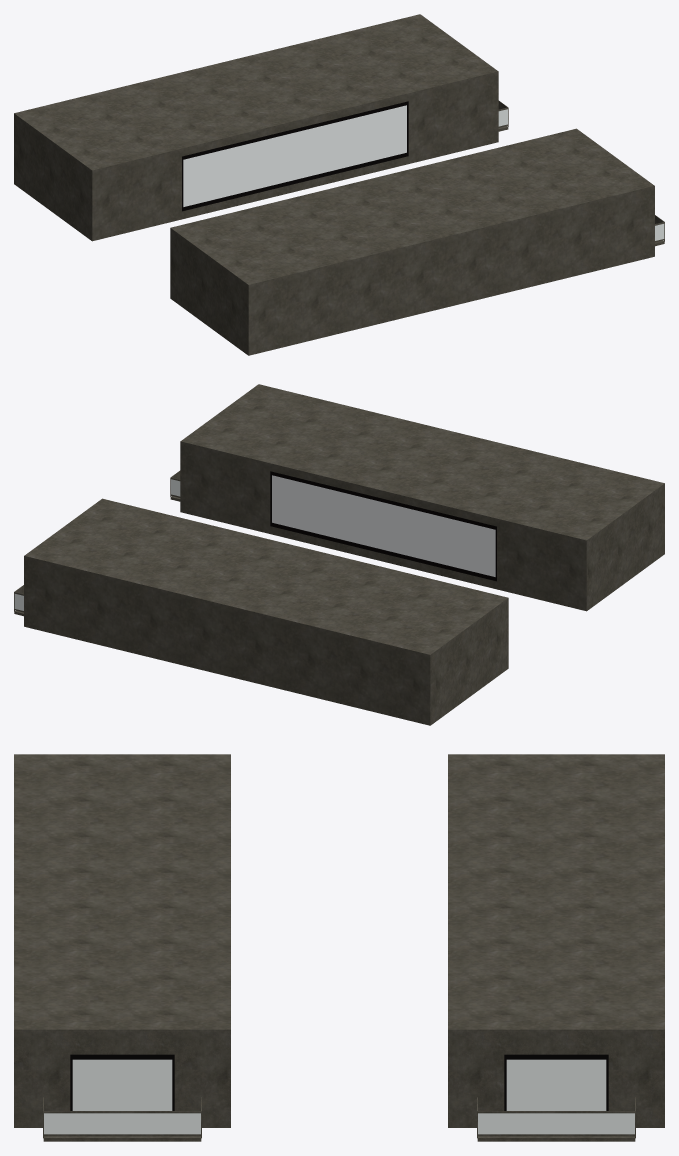
File: Piso.fbx
3 views of the same model, one above another, from view 1: azimuth 30°, elevation 25°; view 2: azimuth 150°, elevation 25°; view 3: azimuth 270°, elevation 25° (orthographic). The views are drawn at different scales.
Parts seen in each view (by area): view 1: building_021.004; view 2: building_021.004; view 3: building_021.004.
Part boxes in pixels (bbox=[...]): building_021.004: bbox=[14, 14, 664, 355]; building_021.004: bbox=[14, 384, 664, 725]; building_021.004: bbox=[14, 754, 664, 1141].
Size of the model in its own units: 3152 by 500 by 3000.
2 materials, 2 textured.
